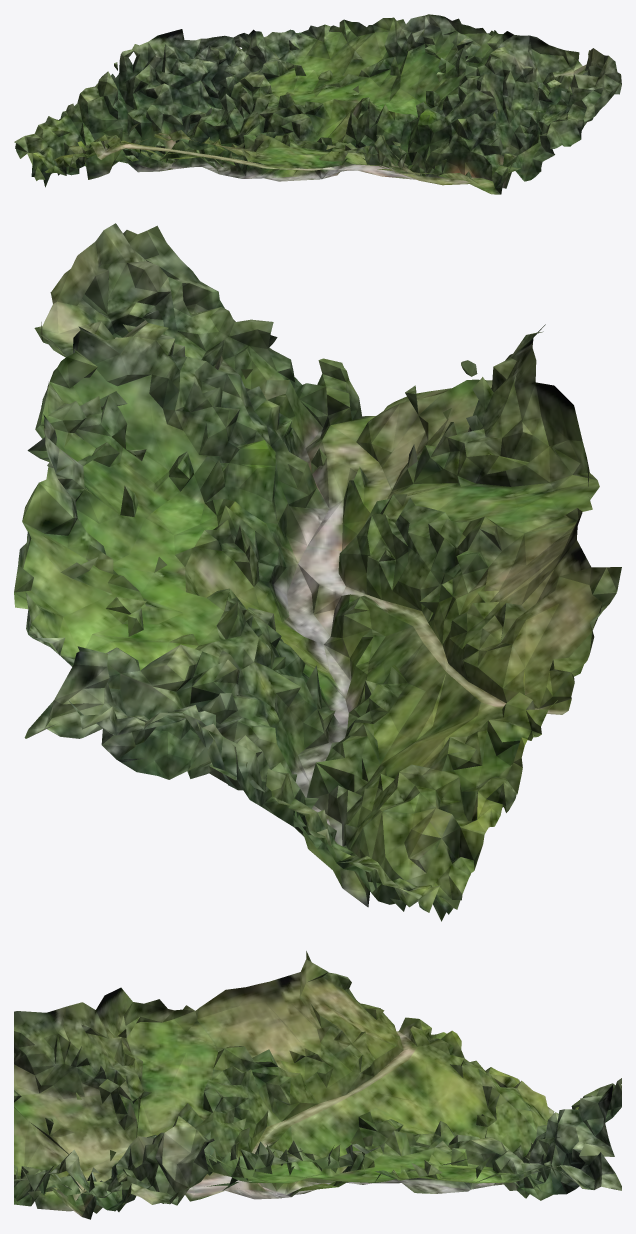
3 views of the same model, one above another, from view 1: azimuth 30°, elevation 25°; view 2: azimuth 150°, elevation 25°; view 3: azimuth 270°, elevation 25° (orthographic). The views are drawn at different scales.
Bounding box in the file's own units: 418 × 179 × 418.
4 materials, 4 textured.
